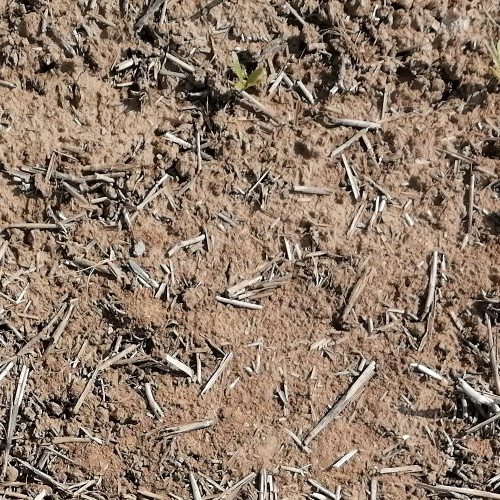beet: (229, 60, 263, 93)
